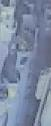cylinder: (0, 1, 51, 126)
